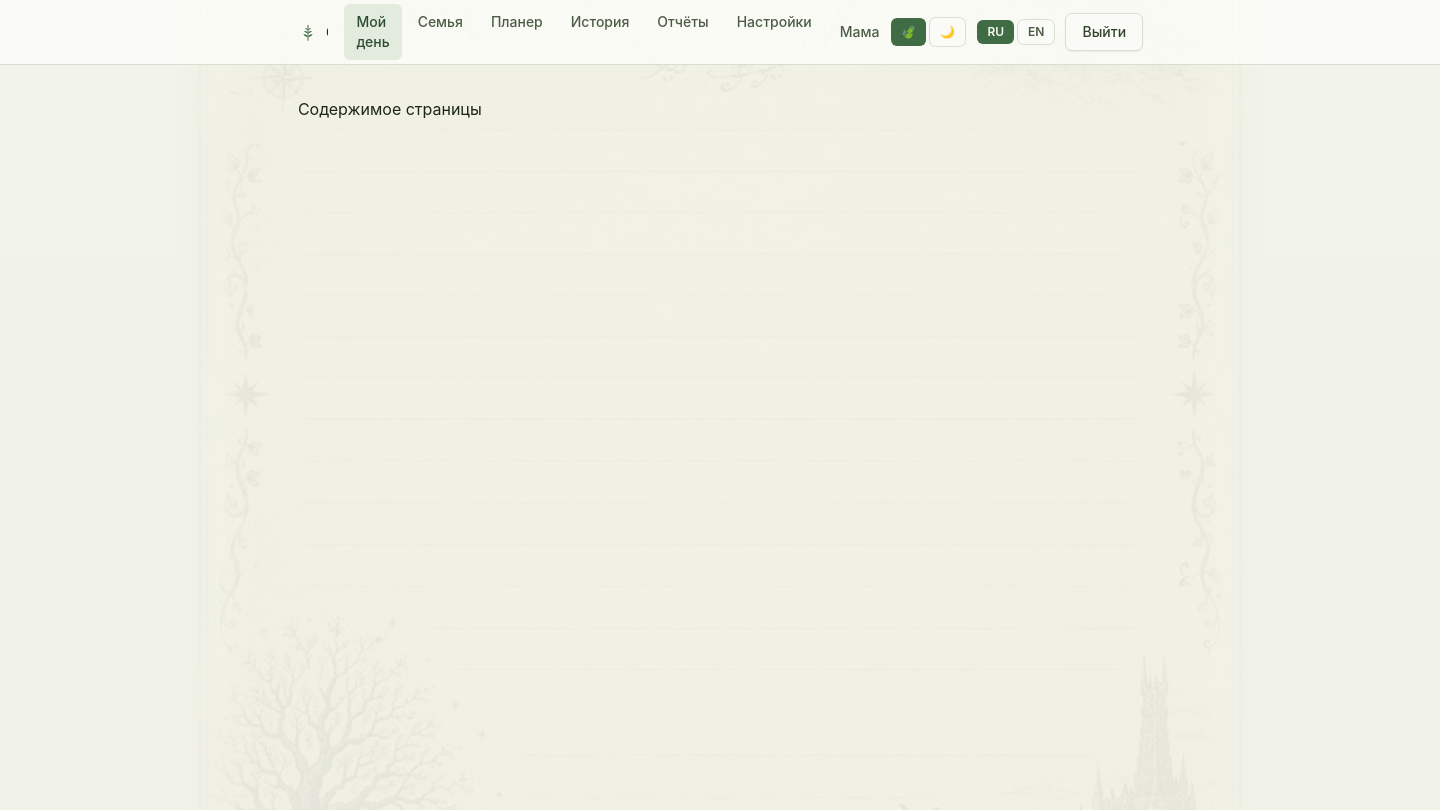
it: AppLayout › переводит меню на английский
Click the button "EN": (1036, 32) [1018, 20, 1054, 44]
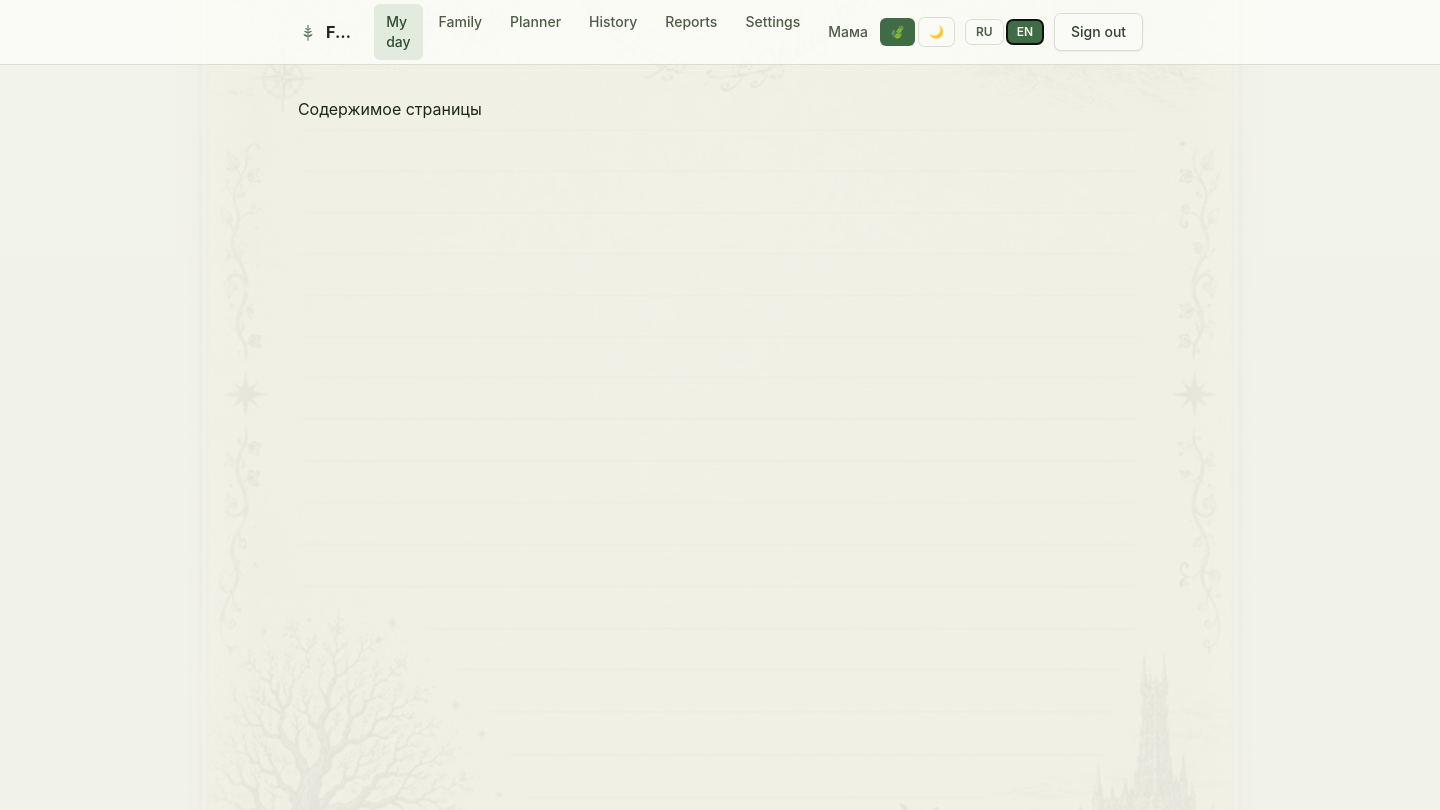
Result: the link "My day" is shown at [374, 4, 422, 60]
Result: the button "Sign out" is shown at [1055, 14, 1142, 50]
